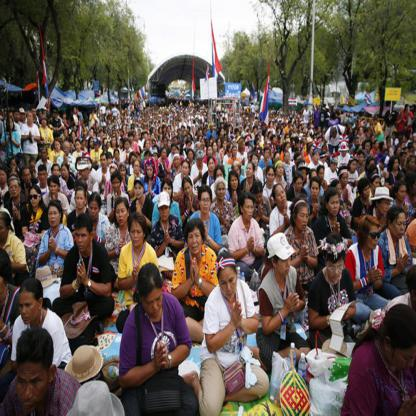face: (18, 367, 48, 411), (394, 339, 416, 372), (20, 294, 38, 325), (220, 272, 238, 302), (143, 291, 163, 318), (328, 259, 344, 284), (189, 231, 203, 255), (131, 222, 144, 247), (394, 216, 407, 240), (76, 230, 90, 252), (279, 252, 291, 275), (368, 227, 380, 250), (117, 205, 129, 226), (298, 209, 309, 231), (329, 198, 341, 218), (49, 208, 60, 228), (380, 197, 391, 216), (276, 188, 287, 207), (245, 202, 255, 222), (159, 203, 170, 221), (201, 195, 211, 214), (90, 203, 100, 221), (76, 192, 86, 209), (10, 182, 20, 198), (31, 191, 40, 208), (217, 185, 226, 201), (135, 184, 144, 200), (163, 185, 173, 199), (1, 220, 7, 242), (312, 184, 320, 200), (50, 182, 59, 196), (399, 187, 407, 202), (373, 179, 381, 193), (231, 177, 239, 191), (267, 171, 275, 185), (182, 164, 190, 177), (113, 180, 121, 193), (23, 171, 31, 184), (336, 185, 343, 198), (185, 185, 192, 198), (247, 165, 254, 178), (364, 187, 371, 199), (40, 172, 47, 184), (1, 172, 7, 185), (256, 193, 263, 204), (234, 167, 241, 178), (217, 173, 224, 184), (147, 167, 154, 178), (81, 169, 88, 180), (278, 164, 284, 176), (11, 170, 18, 180), (11, 162, 18, 172), (410, 159, 416, 170), (342, 175, 348, 186), (297, 180, 303, 191), (209, 161, 215, 172), (135, 163, 141, 174), (102, 158, 108, 169), (64, 144, 70, 155), (8, 119, 14, 130), (394, 160, 400, 170), (352, 162, 358, 172), (302, 170, 307, 182), (42, 151, 48, 161), (370, 162, 376, 171), (312, 174, 318, 183), (253, 157, 259, 166), (121, 169, 127, 178), (132, 157, 138, 166), (107, 157, 113, 166), (63, 169, 69, 178), (54, 169, 60, 178), (56, 143, 62, 152), (28, 115, 34, 124), (320, 170, 325, 180), (199, 157, 204, 167), (16, 112, 21, 122), (208, 149, 214, 157), (153, 154, 159, 162), (366, 143, 371, 152), (342, 149, 347, 158), (333, 163, 338, 172), (315, 153, 320, 162), (189, 152, 194, 161), (175, 158, 180, 167), (162, 151, 167, 160), (111, 170, 116, 179), (76, 143, 81, 152), (42, 118, 47, 127), (32, 110, 37, 119), (8, 114, 13, 123), (413, 181, 416, 195), (31, 165, 37, 172), (298, 157, 303, 165), (286, 155, 291, 163), (266, 151, 271, 159), (233, 149, 238, 157), (213, 144, 218, 152), (146, 154, 151, 162), (126, 143, 131, 151), (361, 156, 365, 165), (276, 155, 281, 162), (403, 155, 407, 163), (311, 147, 315, 155), (286, 145, 290, 153), (218, 140, 222, 148), (201, 141, 205, 149), (116, 152, 120, 160), (175, 149, 179, 157), (91, 140, 95, 148), (21, 114, 25, 122), (197, 146, 202, 152), (129, 136, 134, 142), (398, 149, 402, 156), (376, 142, 380, 149), (187, 143, 191, 150), (95, 144, 99, 151), (82, 142, 86, 149), (146, 143, 150, 150), (113, 139, 116, 148), (333, 133, 337, 139), (274, 138, 278, 144), (257, 142, 261, 148), (243, 144, 246, 152), (210, 142, 214, 148), (173, 148, 177, 154), (69, 144, 73, 150), (72, 133, 76, 139), (90, 131, 94, 137), (153, 148, 157, 154), (120, 142, 124, 148), (385, 152, 388, 159), (389, 141, 392, 148), (225, 142, 228, 149), (164, 139, 167, 146), (248, 131, 252, 136), (236, 133, 240, 138), (174, 140, 178, 145), (381, 163, 384, 169), (411, 150, 414, 156), (383, 145, 386, 151), (393, 134, 396, 140), (359, 147, 362, 153), (357, 141, 360, 147), (361, 130, 364, 136), (368, 130, 371, 136), (351, 129, 354, 135), (304, 138, 307, 144), (296, 142, 299, 148), (266, 138, 269, 144), (249, 156, 252, 162), (249, 139, 252, 145), (234, 142, 237, 148), (259, 136, 262, 142), (255, 130, 258, 136), (228, 150, 231, 156), (222, 130, 225, 136), (105, 141, 108, 147), (65, 132, 68, 138), (78, 132, 81, 138), (153, 142, 156, 148), (169, 143, 172, 149), (137, 134, 140, 140), (54, 111, 57, 117), (64, 114, 67, 120), (109, 119, 112, 125), (231, 145, 233, 153), (403, 144, 406, 149), (411, 135, 414, 140), (373, 137, 376, 142), (366, 131, 369, 136), (374, 120, 377, 125), (324, 148, 327, 153), (287, 137, 290, 142), (320, 139, 323, 144), (317, 134, 320, 139), (294, 128, 297, 133), (289, 123, 292, 128), (304, 128, 307, 133), (270, 134, 273, 139), (260, 131, 263, 136), (200, 138, 203, 143), (200, 132, 203, 137), (197, 133, 200, 138), (185, 138, 188, 143), (188, 136, 191, 141), (108, 144, 111, 149), (104, 148, 107, 153), (86, 142, 89, 147), (85, 135, 88, 140), (168, 128, 171, 133), (152, 136, 155, 141), (116, 133, 119, 138), (40, 113, 43, 118), (44, 113, 47, 118), (96, 123, 99, 128), (75, 109, 78, 114), (83, 124, 86, 129), (75, 127, 78, 132), (105, 127, 108, 132), (115, 120, 118, 125), (280, 110, 283, 115), (414, 144, 416, 150), (371, 126, 374, 130), (319, 128, 322, 132), (308, 134, 311, 138), (302, 125, 305, 129), (266, 132, 269, 136), (205, 130, 207, 136), (184, 132, 187, 136), (167, 136, 170, 140), (145, 134, 148, 138), (149, 135, 152, 139), (161, 135, 163, 141), (153, 129, 156, 133), (92, 111, 95, 115), (276, 124, 278, 130), (356, 131, 358, 136), (316, 128, 318, 133), (320, 133, 322, 138), (309, 127, 311, 132), (300, 126, 302, 131), (297, 120, 299, 125), (340, 110, 342, 115), (284, 130, 286, 135), (271, 124, 273, 129), (279, 128, 281, 133), (101, 133, 103, 138), (173, 134, 175, 139), (161, 128, 163, 133), (121, 130, 123, 135), (124, 127, 126, 132), (128, 128, 130, 133), (273, 122, 275, 127), (258, 154, 261, 157), (164, 129, 167, 132), (310, 125, 312, 129), (323, 134, 325, 138), (332, 108, 334, 112), (318, 106, 320, 110), (143, 135, 145, 139), (114, 132, 116, 136), (139, 131, 141, 135), (65, 126, 67, 130), (122, 117, 124, 121), (147, 117, 149, 121), (211, 126, 213, 130), (315, 136, 317, 139), (311, 121, 313, 124), (357, 123, 359, 126), (365, 113, 367, 116), (348, 113, 350, 116), (307, 107, 309, 110), (157, 132, 159, 135), (179, 131, 181, 134), (180, 135, 182, 138), (156, 124, 158, 127), (132, 129, 134, 132), (127, 125, 129, 128), (98, 110, 100, 113), (97, 113, 99, 116), (86, 123, 88, 126), (129, 120, 131, 123), (132, 113, 134, 116), (113, 129, 115, 132), (118, 115, 120, 118), (133, 119, 135, 122), (282, 115, 284, 118), (142, 126, 144, 128), (288, 117, 290, 119), (284, 117, 286, 119), (277, 116, 279, 118), (175, 123, 176, 127), (87, 117, 88, 120), (123, 123, 124, 126), (143, 120, 144, 123), (287, 117, 288, 120), (279, 113, 280, 116), (272, 115, 273, 118), (274, 115, 275, 118), (136, 114, 137, 116), (274, 108, 275, 110)
